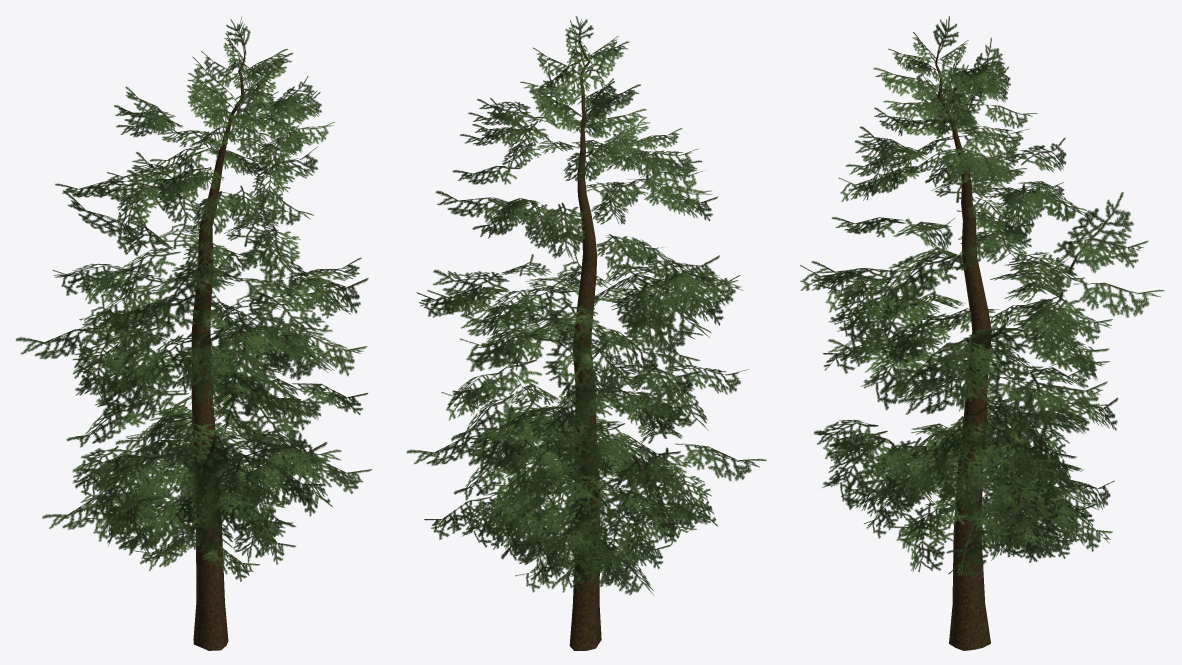
Rendered from fir2_far.glb.
The picture shows the model from 3 angles, left to right: view 1: azimuth 30°, elevation 25°; view 2: azimuth 150°, elevation 25°; view 3: azimuth 270°, elevation 25°; orthographic projection. The views are drawn at different scales.
Visible parts, largest first — view 1: Christmas tree_2_LOD2_Brunches_Mat_0, Christmas tree_2_LOD2_Bark_Mat_0; view 2: Christmas tree_2_LOD2_Brunches_Mat_0, Christmas tree_2_LOD2_Bark_Mat_0; view 3: Christmas tree_2_LOD2_Brunches_Mat_0, Christmas tree_2_LOD2_Bark_Mat_0.
Part boxes in pixels (<box>): Christmas tree_2_LOD2_Brunches_Mat_0: <box>15,16,372,581</box>; Christmas tree_2_LOD2_Bark_Mat_0: <box>191,51,245,650</box>; Christmas tree_2_LOD2_Brunches_Mat_0: <box>406,16,766,595</box>; Christmas tree_2_LOD2_Bark_Mat_0: <box>569,45,601,650</box>; Christmas tree_2_LOD2_Brunches_Mat_0: <box>800,16,1164,579</box>; Christmas tree_2_LOD2_Bark_Mat_0: <box>935,53,991,650</box>.
Size of the model in its own units: 4.95 by 9.26 by 4.88.
2 materials, 2 textured.
